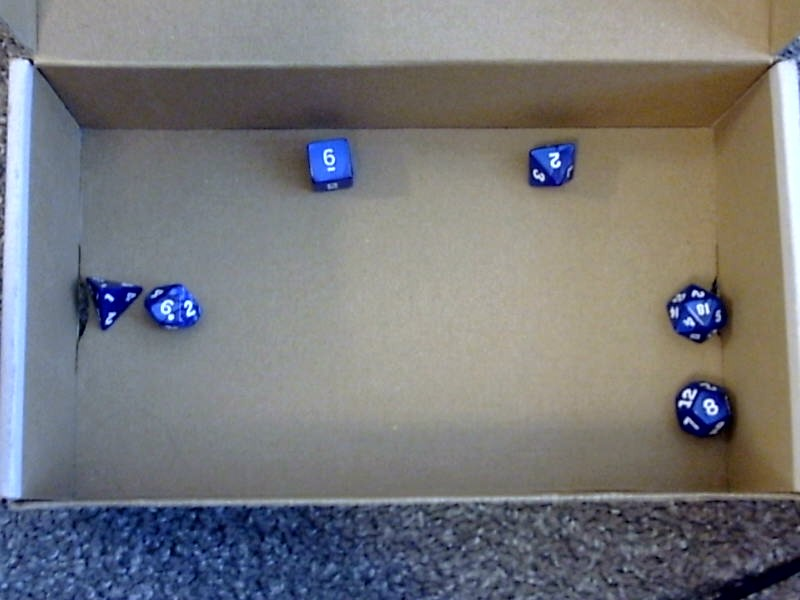d10 6: (143, 279, 205, 334)
d12 8: (671, 377, 735, 441)
d20 18: (660, 278, 730, 342)
d4 1: (76, 270, 141, 332)
d6 6: (301, 135, 356, 193)
d8 2: (526, 142, 577, 188)
